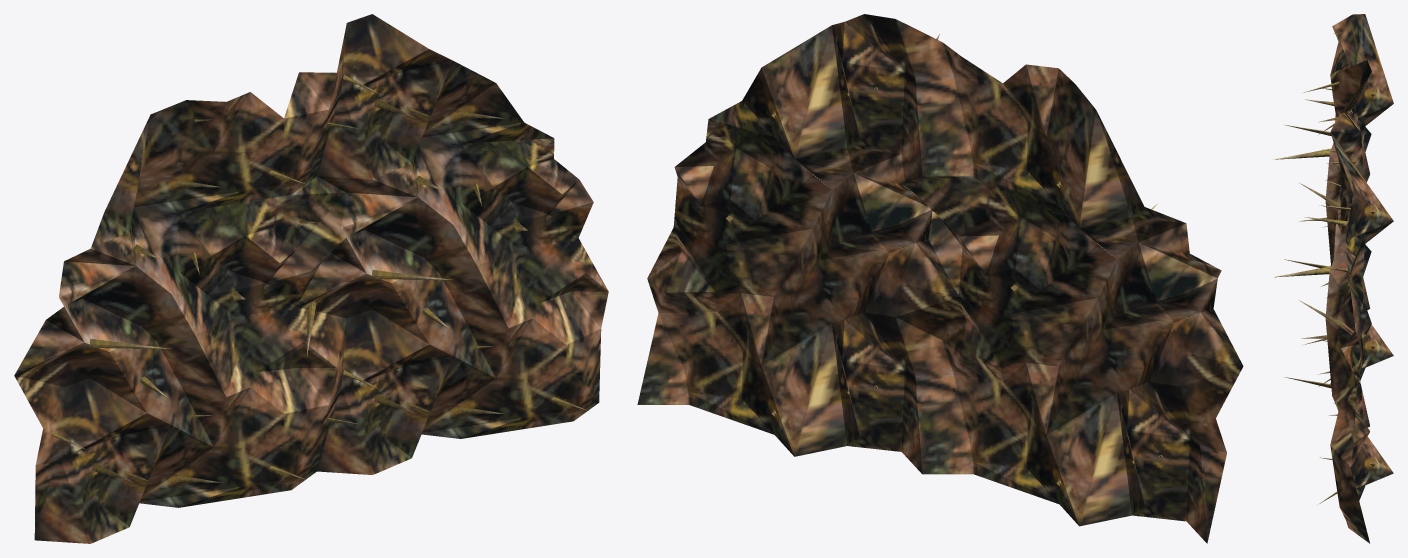
Rendered from Thorn Bush.obj.
The picture shows the model from 3 angles, left to right: view 1: azimuth 30°, elevation 25°; view 2: azimuth 150°, elevation 25°; view 3: azimuth 270°, elevation 25°; orthographic projection. The views are drawn at different scales.
Parts seen in each view (by area): view 1: MODELS_bin_010:poly000; view 2: MODELS_bin_010:poly000; view 3: MODELS_bin_010:poly000.
Part boxes in pixels (x1=…): MODELS_bin_010:poly000: x1=14, y1=14, x2=608, y2=543; MODELS_bin_010:poly000: x1=637, y1=14, x2=1243, y2=543; MODELS_bin_010:poly000: x1=1274, y1=14, x2=1393, y2=543.
Bounding box in the file's own units: 5.38 × 3.84 × 1.12.
Materials: 1 (1 with a texture image).
